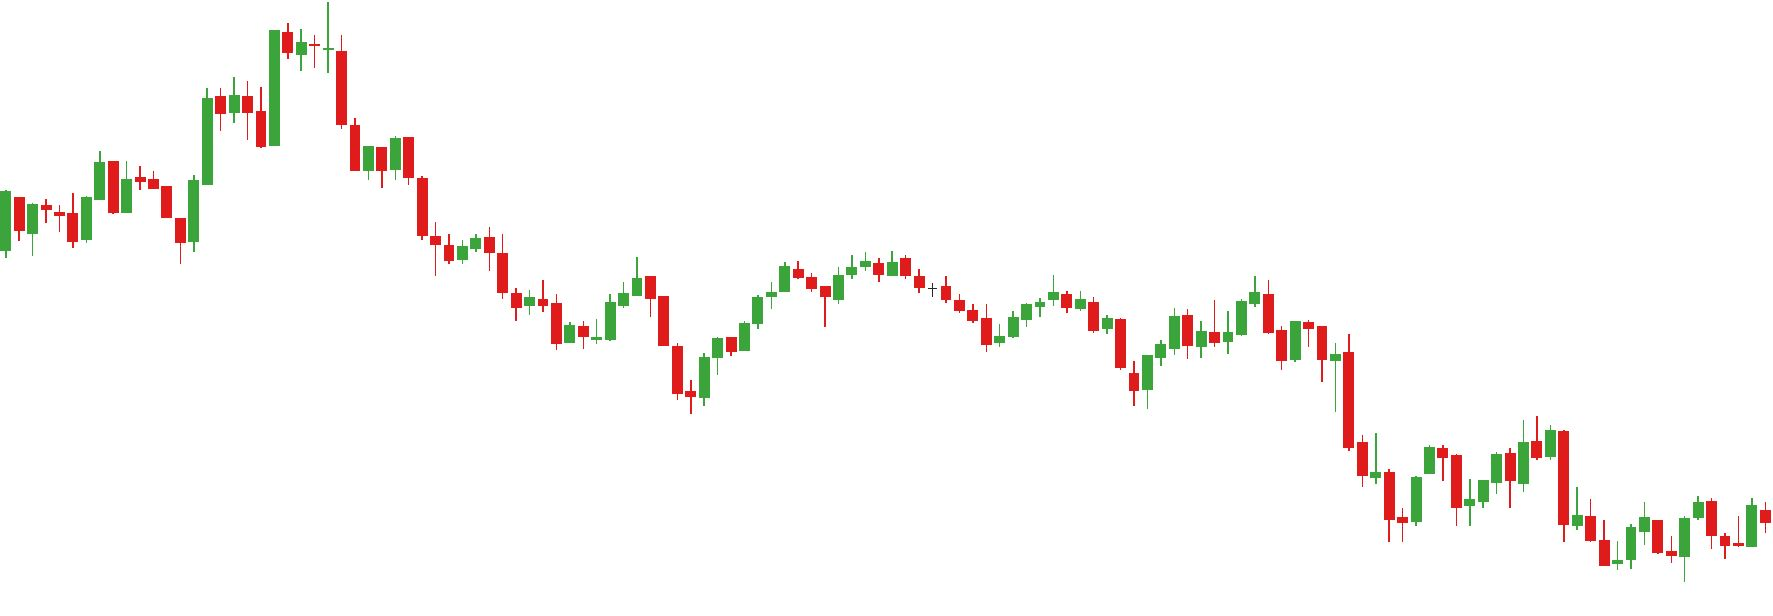buy: (64, 182, 199, 260)
